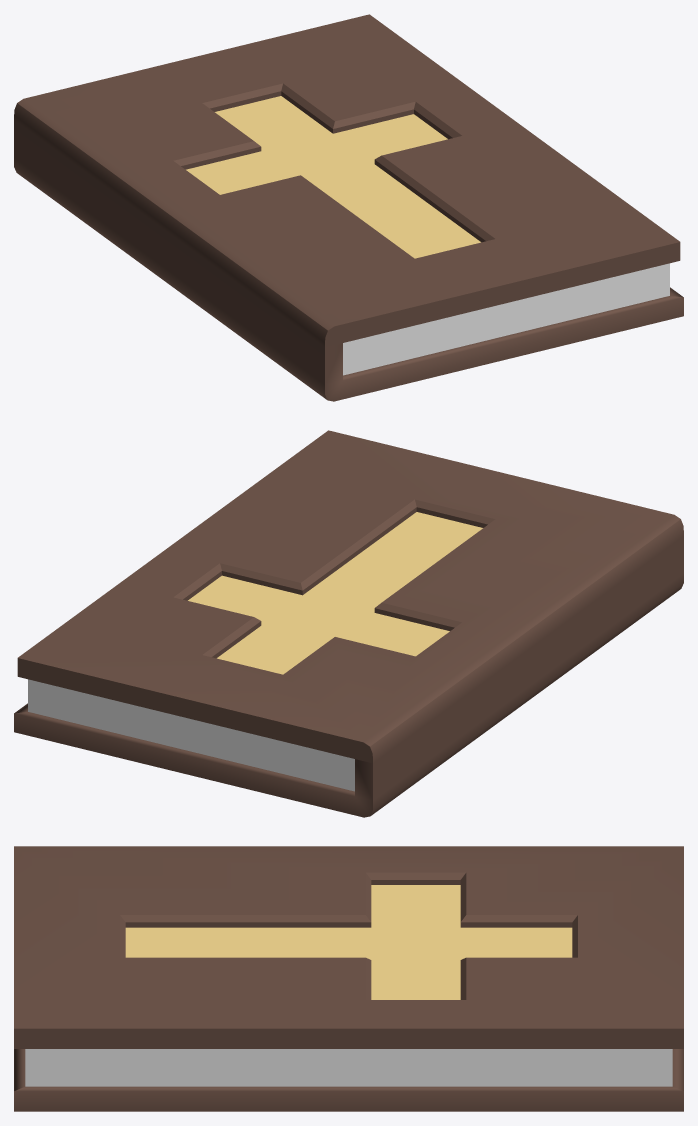
Rendered from priest_bible.fbx.
3 renders of one model, top to bottom at view 1: azimuth 30°, elevation 25°; view 2: azimuth 150°, elevation 25°; view 3: azimuth 270°, elevation 25°, orthographic. The views are drawn at different scales.
Parts seen in each view (by area): view 1: bible; view 2: bible; view 3: bible.
Boxes of the visible parts, x1,y1,x2,y2 form: bible: [14, 14, 683, 401]; bible: [14, 430, 683, 817]; bible: [14, 846, 683, 1111].
Bounding box in the file's own units: 0.2 × 0.04 × 0.3.
